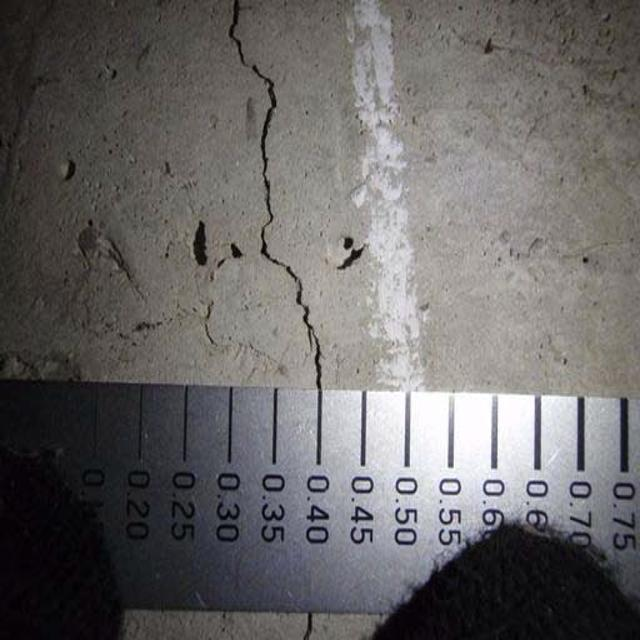crack: (220, 0, 331, 379)
